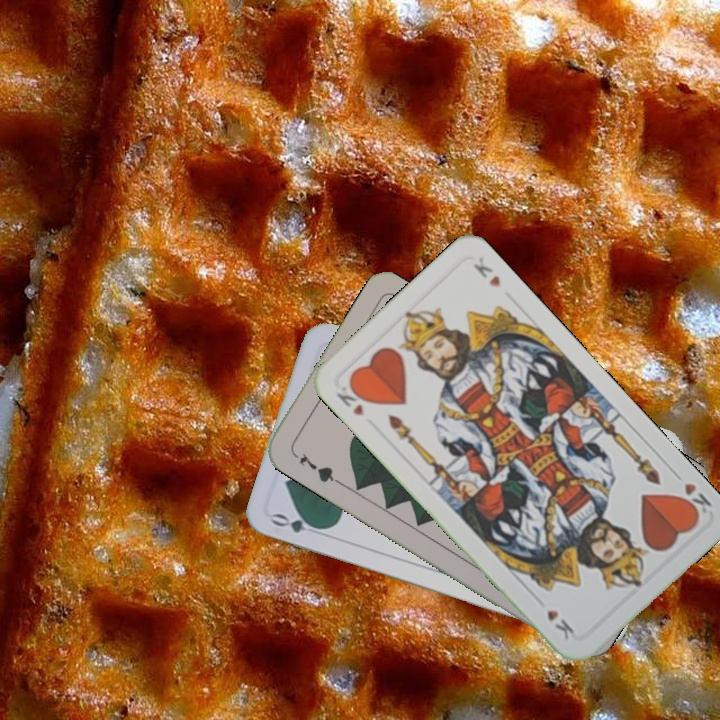G7: (288, 448, 342, 486)
GO: (268, 509, 328, 536)
HK: (668, 467, 714, 520), (332, 379, 371, 419)
